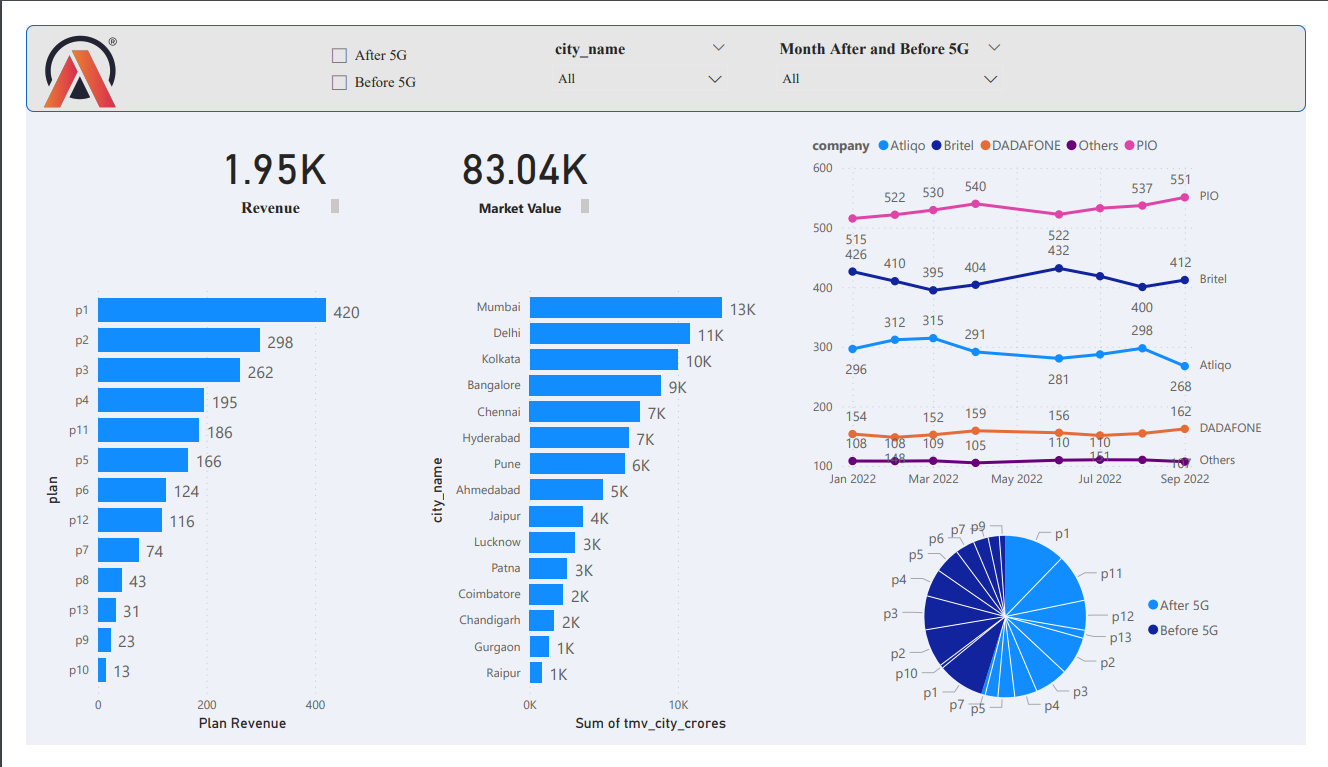

Layout of this report page (visuals, bound fields, positions):
{"tool":"powerbi","page":{"name":"Market","canvas":[1280,720],"ordinal":1},"visuals":[{"type":"shape","box":[0,0,1280,87.1],"z":0},{"type":"slicer","fields":{"Values":["dim_date.before/after_5g"]},"box":[292.9,12.9,195.7,65.7],"z":1000,"group":"g1"},{"type":"image","box":[10,4.3,91.4,82.9],"z":1000},{"type":"slicer","fields":{"Values":["dim_cities.city_name"]},"box":[516.5,10,195.7,67.1],"z":2000,"group":"g1"},{"type":"group","id":"g1","title":"Group 4","box":[292.9,10,694.3,68.6],"z":2000},{"type":"card","fields":{"Values":["Metrics.Plan Revenue"]},"box":[166.7,98.3,163.3,81.7],"z":3000},{"type":"slicer","fields":{"Values":["dim_date.date.Variation.Date Hierarchy.Month"]},"box":[740,10,247.1,67.1],"z":4000,"group":"g1"},{"type":"card","fields":{"Values":["Metrics.Market Value"]},"box":[398.3,98.3,201.7,81.7],"z":4000},{"type":"clusteredBarChart","fields":{"Category":["fact_plan_revenue.plan"],"Y":["Metrics.Plan Revenue"]},"box":[13.3,248.3,363.3,463.3],"z":5000},{"type":"lineChart","fields":{"Y":["Sum(fact_market_share.ms_pct)"],"Category":["fact_market_share.date"],"Series":["fact_market_share.company"]},"box":[781.7,100,476.7,371.7],"z":6000},{"type":"clusteredBarChart","fields":{"Category":["dim_cities.city_name"],"Y":["Sum(fact_market_share.tmv_city_crores)"]},"box":[398.3,248.3,363.3,463.3],"z":7000},{"type":"pieChart","fields":{"Category":["fact_plan_revenue.before/after_5g"],"Y":["Metrics.Plan Revenue"],"Series":["dim_plan.plan"]},"box":[831.7,471.7,375,240],"z":8000},{"type":"textbox","box":[178.6,168.6,140,24.3],"z":8001},{"type":"textbox","box":[428.6,168.6,140,24.3],"z":8002}]}

Visuals, with their boxes in screenshot pixels (x1, y1, x2, y2), scaled from the page's 1280x720 canvas onto the 1328x767 screenshot:
shape: pyautogui.locateOnScreen(0, 0, 1327, 93)
slicer - dim_date.before/after_5g: pyautogui.locateOnScreen(304, 14, 507, 84)
image: pyautogui.locateOnScreen(10, 5, 105, 93)
slicer - dim_cities.city_name: pyautogui.locateOnScreen(536, 11, 739, 82)
"Group 4" group: pyautogui.locateOnScreen(304, 11, 1024, 84)
card - Metrics.Plan Revenue: pyautogui.locateOnScreen(173, 105, 342, 192)
slicer - dim_date.date.Variation.Date Hierarchy.Month: pyautogui.locateOnScreen(768, 11, 1024, 82)
card - Metrics.Market Value: pyautogui.locateOnScreen(413, 105, 622, 192)
clusteredBarChart - fact_plan_revenue.plan x Metrics.Plan Revenue: pyautogui.locateOnScreen(14, 265, 391, 758)
lineChart - Sum(fact_market_share.ms_pct) x fact_market_share.date: pyautogui.locateOnScreen(811, 107, 1306, 502)
clusteredBarChart - dim_cities.city_name x Sum(fact_market_share.tmv_city_crores): pyautogui.locateOnScreen(413, 265, 790, 758)
pieChart - fact_plan_revenue.before/after_5g x Metrics.Plan Revenue: pyautogui.locateOnScreen(863, 502, 1252, 758)
textbox: pyautogui.locateOnScreen(185, 180, 331, 205)
textbox: pyautogui.locateOnScreen(445, 180, 590, 205)
